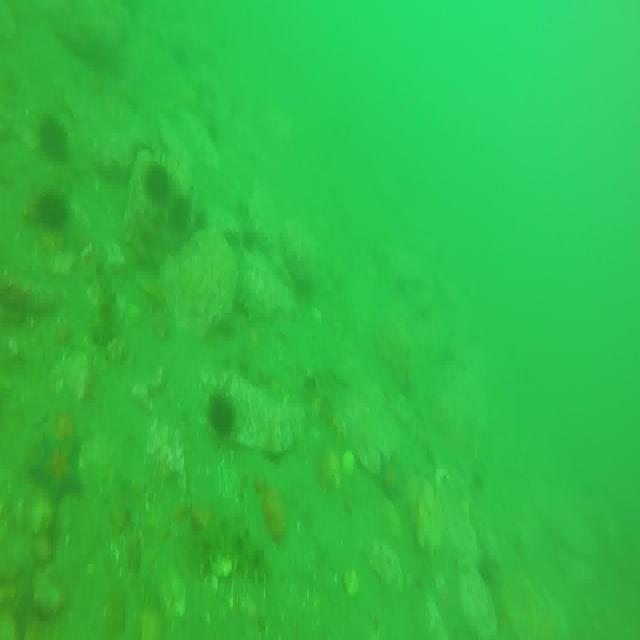echinus: (39, 187, 72, 232), (43, 117, 69, 169), (207, 392, 234, 440), (148, 161, 172, 206)
holothurian: (190, 524, 269, 588), (92, 254, 117, 349)
starfish: (30, 429, 82, 496), (376, 448, 406, 502)
